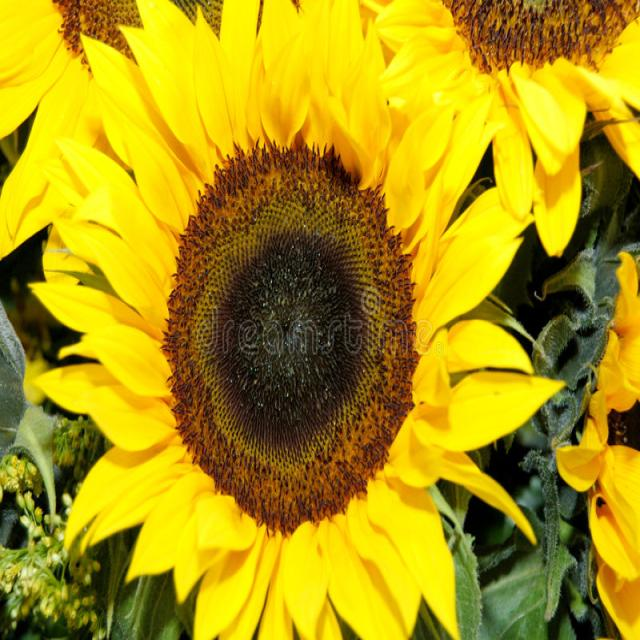sunflower: (39, 11, 554, 640)
